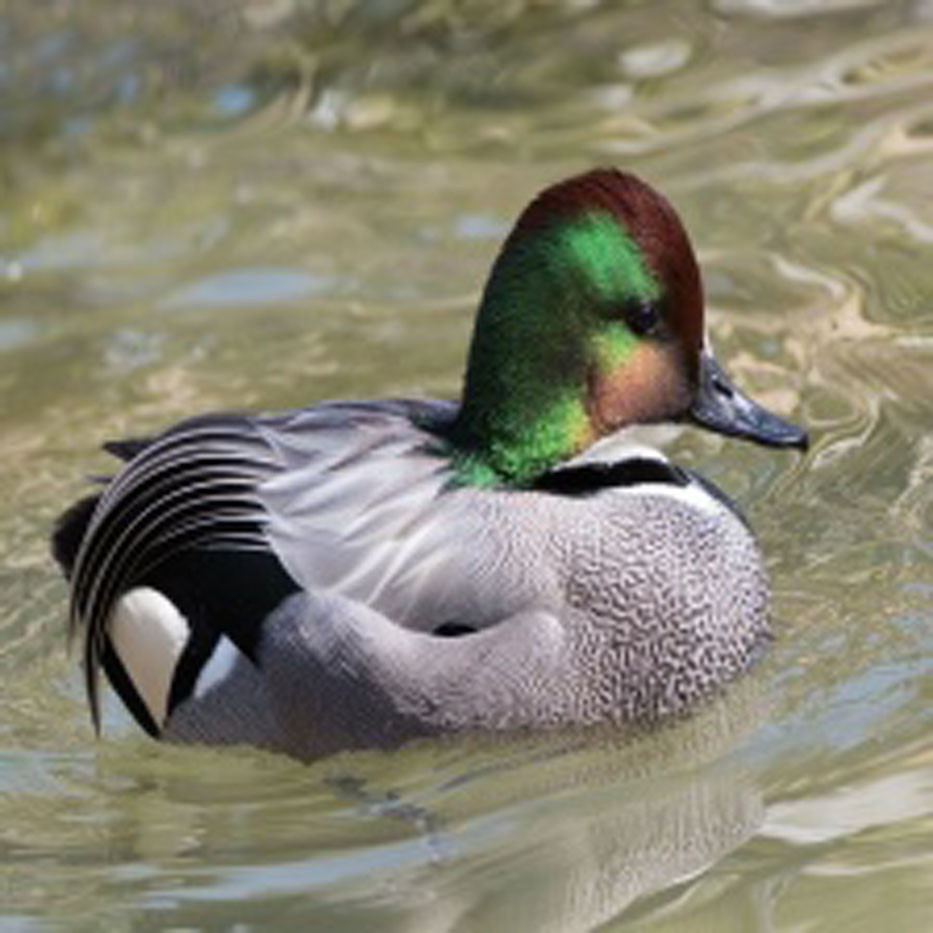Mencari Makan di Lumpur: (686, 348, 818, 465)
